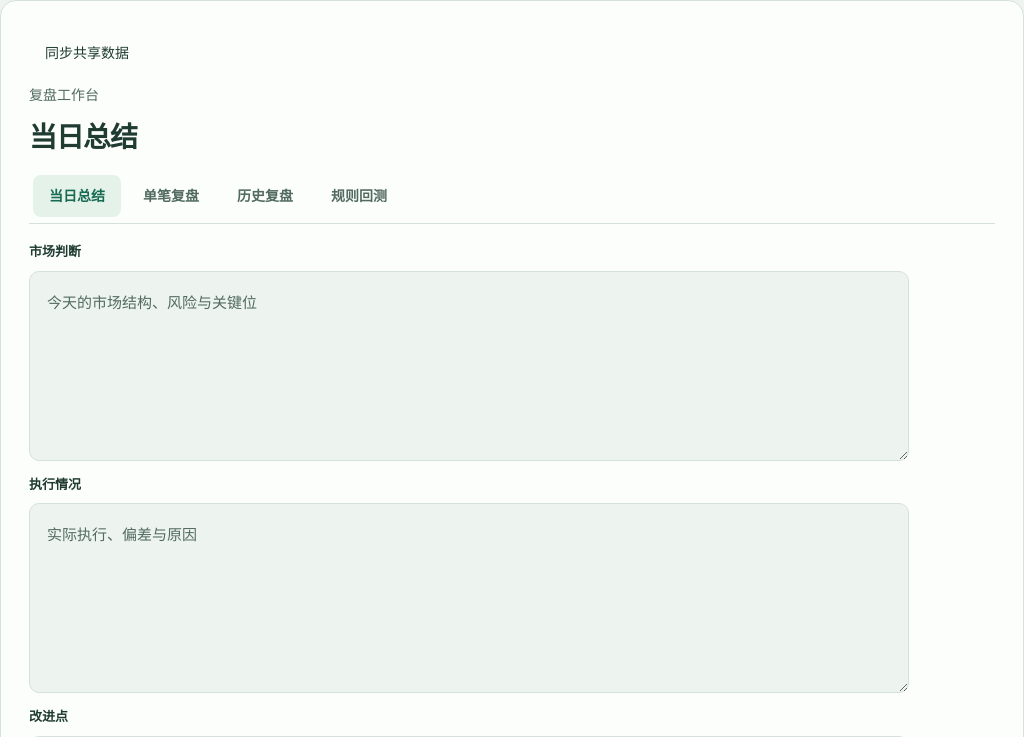
Test: 交易、复盘与规则库 › 复盘页支持在当日总结和规则回测之间切换
Click the tab "规则回测" at (359, 196), box [331,188,387,204]
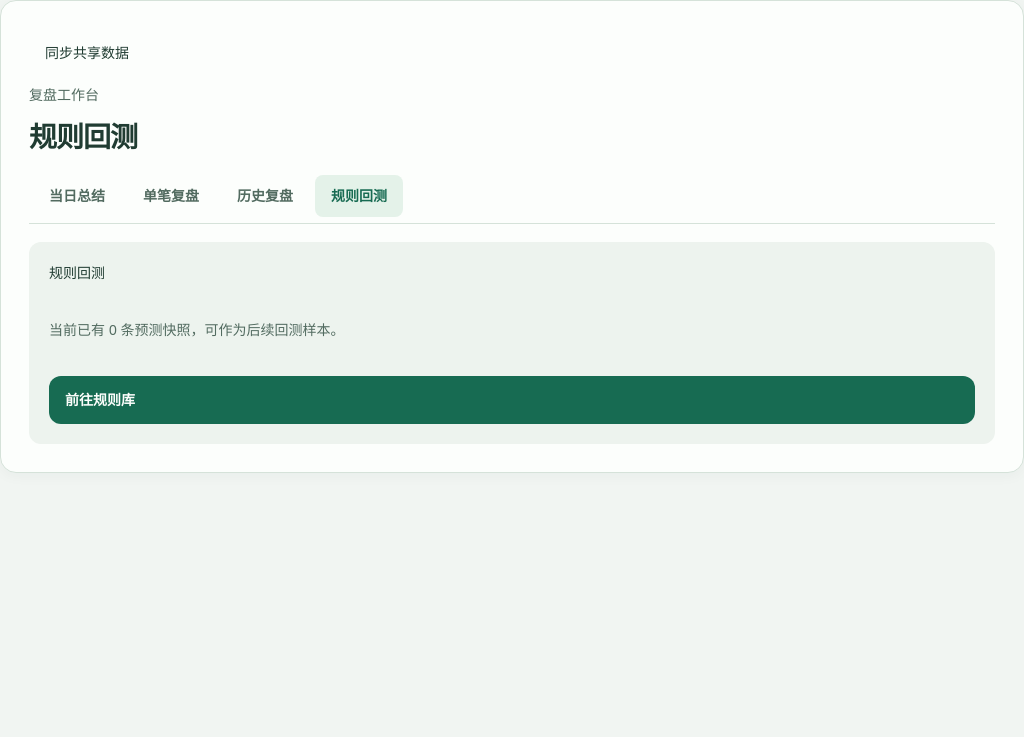
Check: the heading "规则回测" is shown, box [29,119,145,157]
